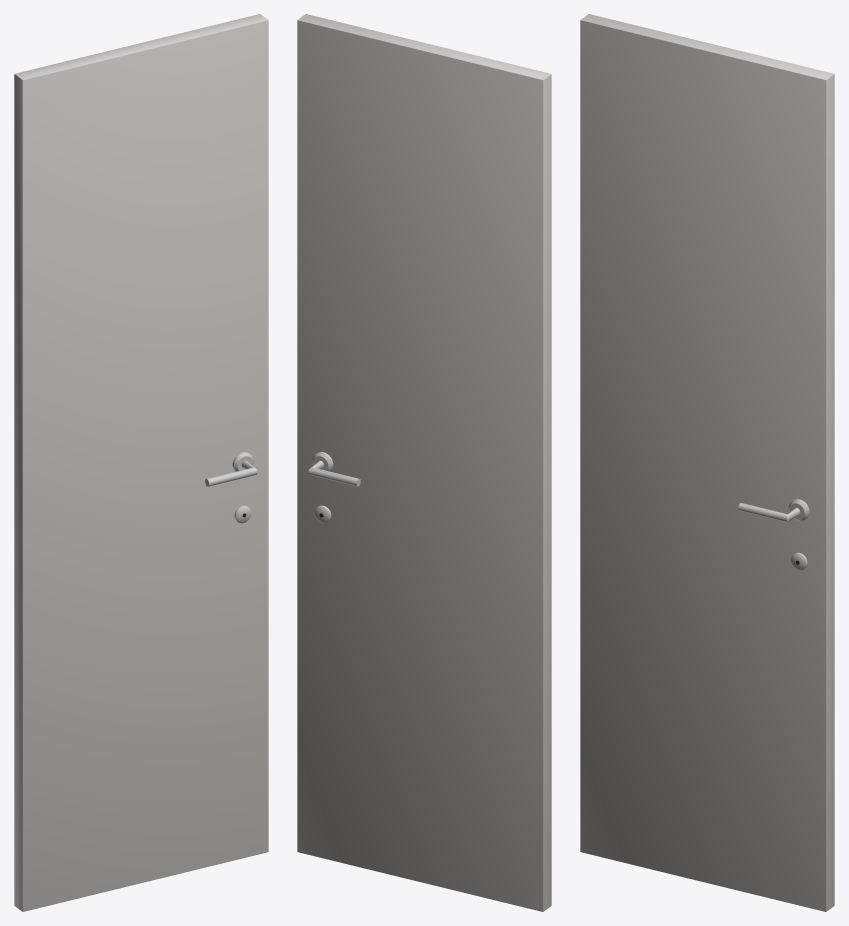
Rendered from recp5KOazLAvV4X4n.glb.
3 views of the same model, side by side, from view 1: azimuth 30°, elevation 25°; view 2: azimuth 150°, elevation 25°; view 3: azimuth 330°, elevation 25° (orthographic).
Parts seen in each view (by area): view 1: porte_reduit__battant; view 2: porte_reduit__battant; view 3: porte_reduit__battant.
Boxes of the visible parts, left/top/right/bottom form: porte_reduit__battant: left=14, top=14, right=268, bottom=911; porte_reduit__battant: left=297, top=14, right=551, bottom=911; porte_reduit__battant: left=580, top=14, right=834, bottom=911.
Bounding box in the file's own units: 0.6499 × 2.1 × 0.169.
3 materials, 1 textured.
